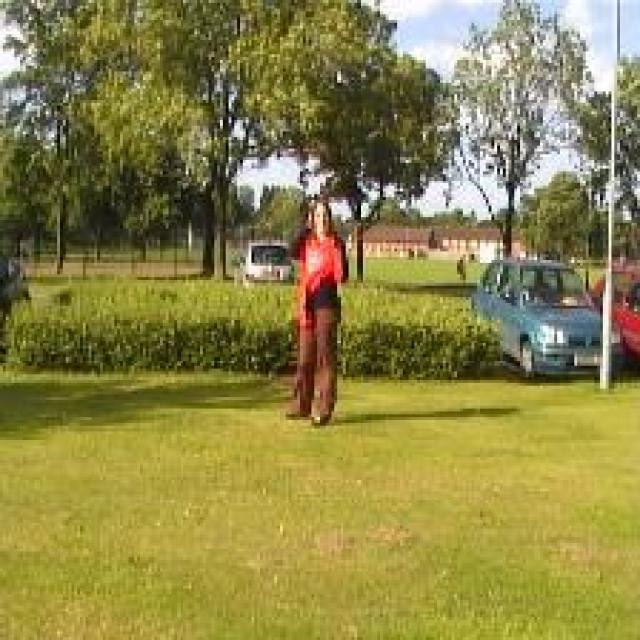other: (289, 221, 344, 320)
